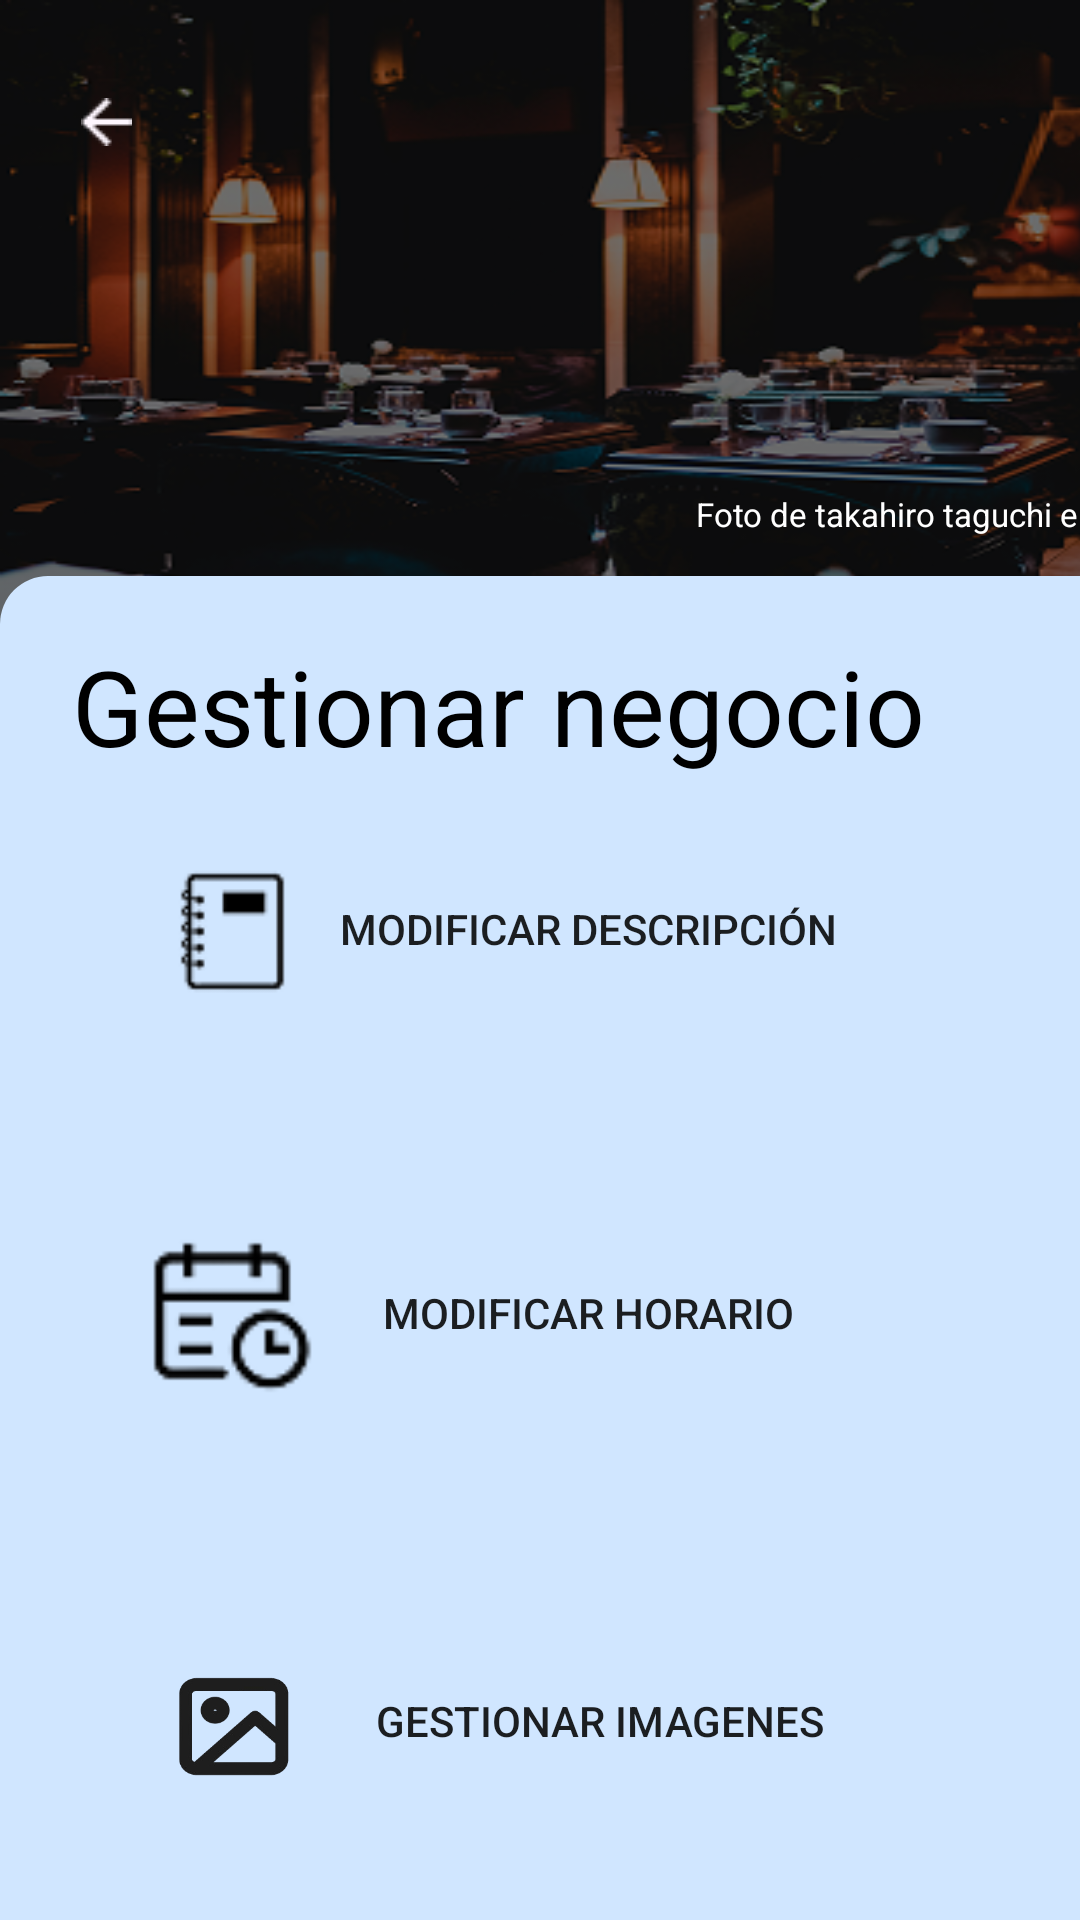

Icons on this 1080*1920 Android screen, each with the point to tap as (x,y):
calendario: (232,1315)
flecha atras: (107,116)
